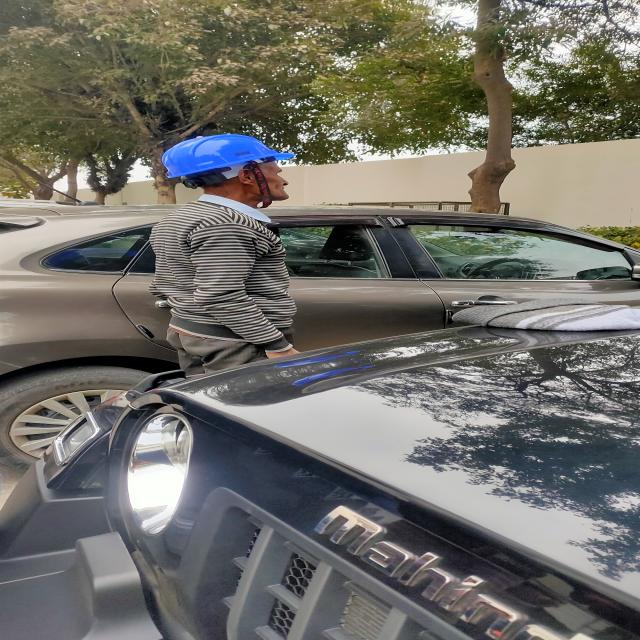no jacket: (162, 132, 296, 360)
